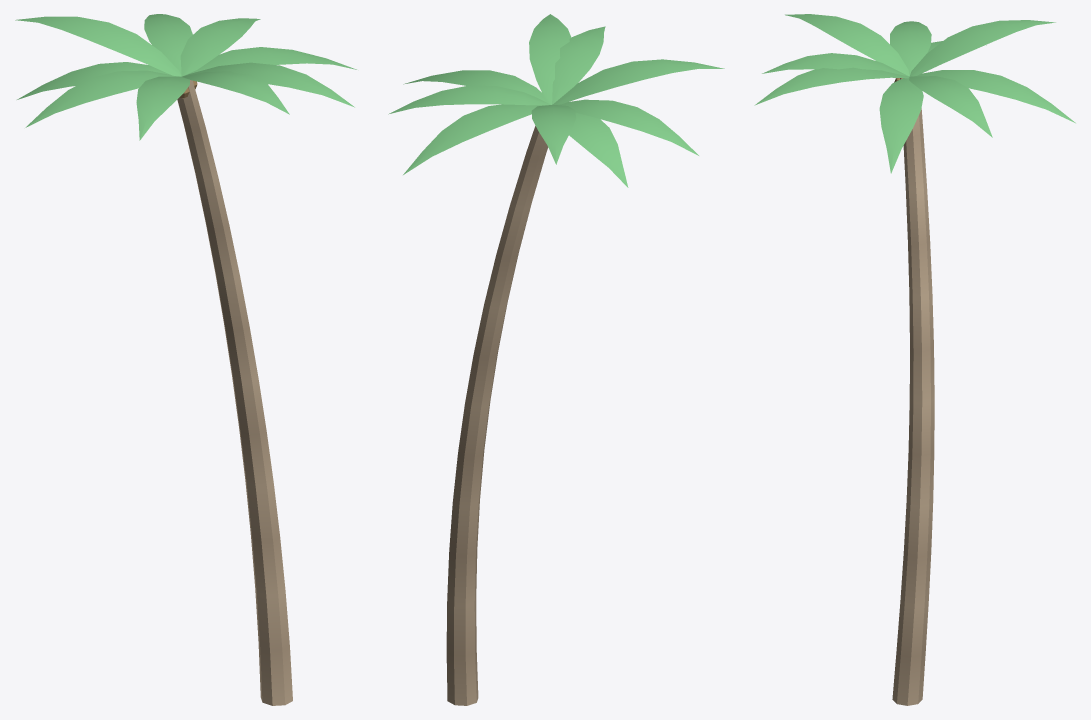
File: palm_tree_b.glb
3 renders of one model, left to right at view 1: azimuth 30°, elevation 25°; view 2: azimuth 150°, elevation 25°; view 3: azimuth 270°, elevation 25°, orthographic. The views are drawn at different scales.
Parts seen in each view (by area): view 1: fronds, trunk; view 2: fronds, trunk; view 3: fronds, trunk.
Boxes of the visible parts, <box> form: fronds: <box>15,14,356,140</box>; trunk: <box>177,80,292,705</box>; fronds: <box>388,14,724,187</box>; trunk: <box>446,126,548,705</box>; fronds: <box>754,14,1075,173</box>; trunk: <box>892,78,934,705</box>.
Size of the model in its own units: 4.46 by 8.89 by 4.28.
